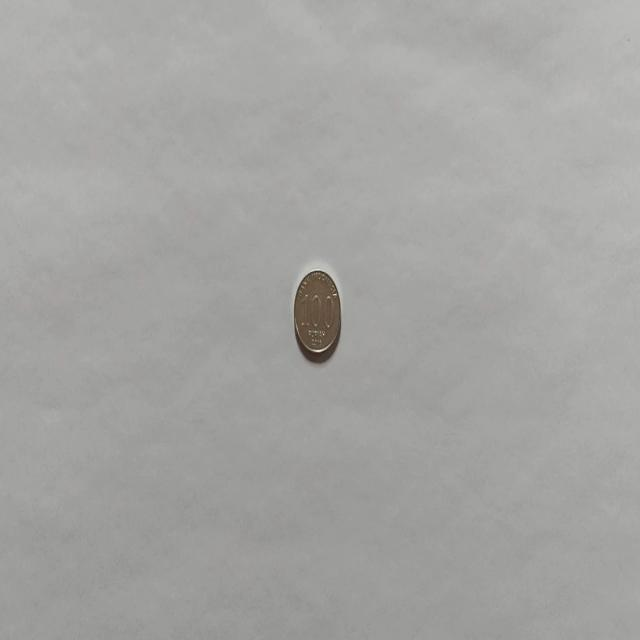seratus rupiah: (292, 268, 342, 360)
